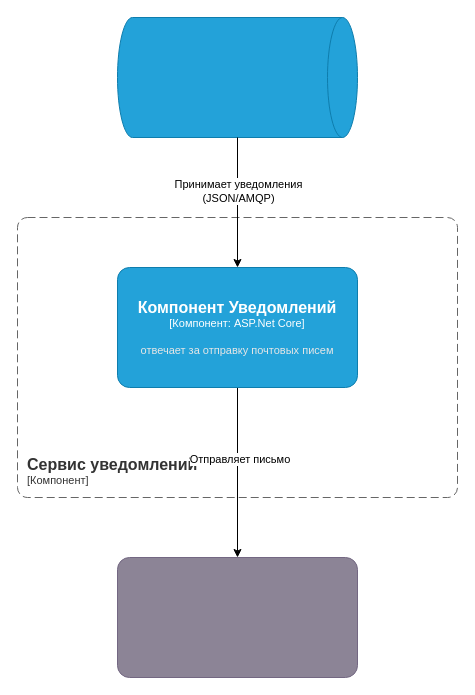
The diagram is 475 pixels wide and 695 high, and some of its shapes have lost their labels. Here are the shapes that lost their labels. From the top down, the centre of each, then its label:
At pixel 237 77: "Брокер [Container: RabbitMQ]".
At pixel 237 617: "Система уведомлений [Программная система] Отправляет почтовые уведомления".
